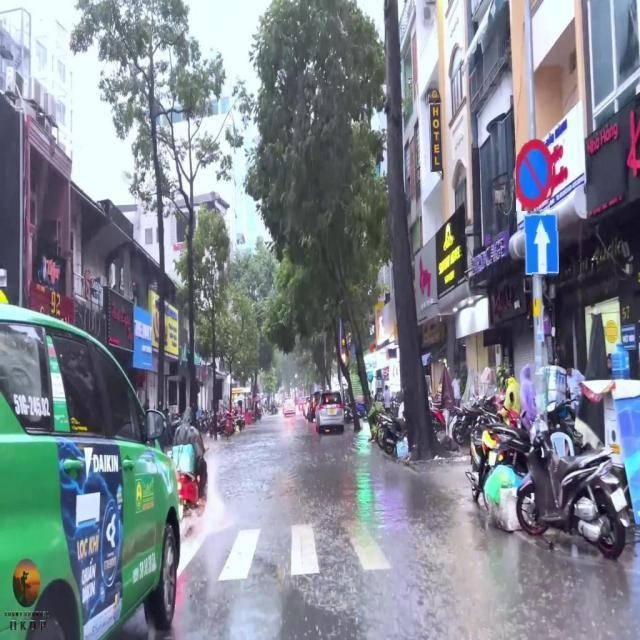131a-cam-do-xe: (513, 140, 551, 208)
407a-duong-mot-chieu: (523, 210, 559, 278)
